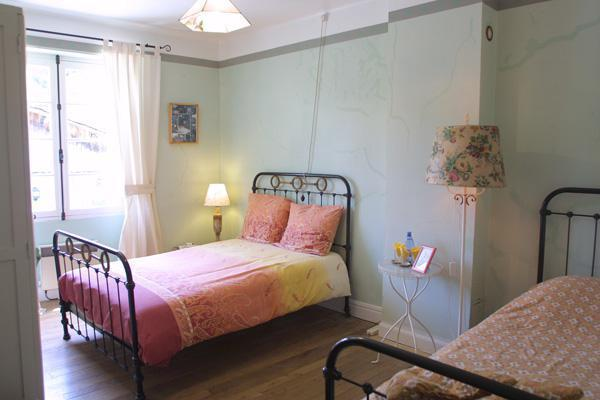Cama: (61, 171, 351, 372), (357, 263, 599, 398)
Ventana: (25, 43, 135, 212)
